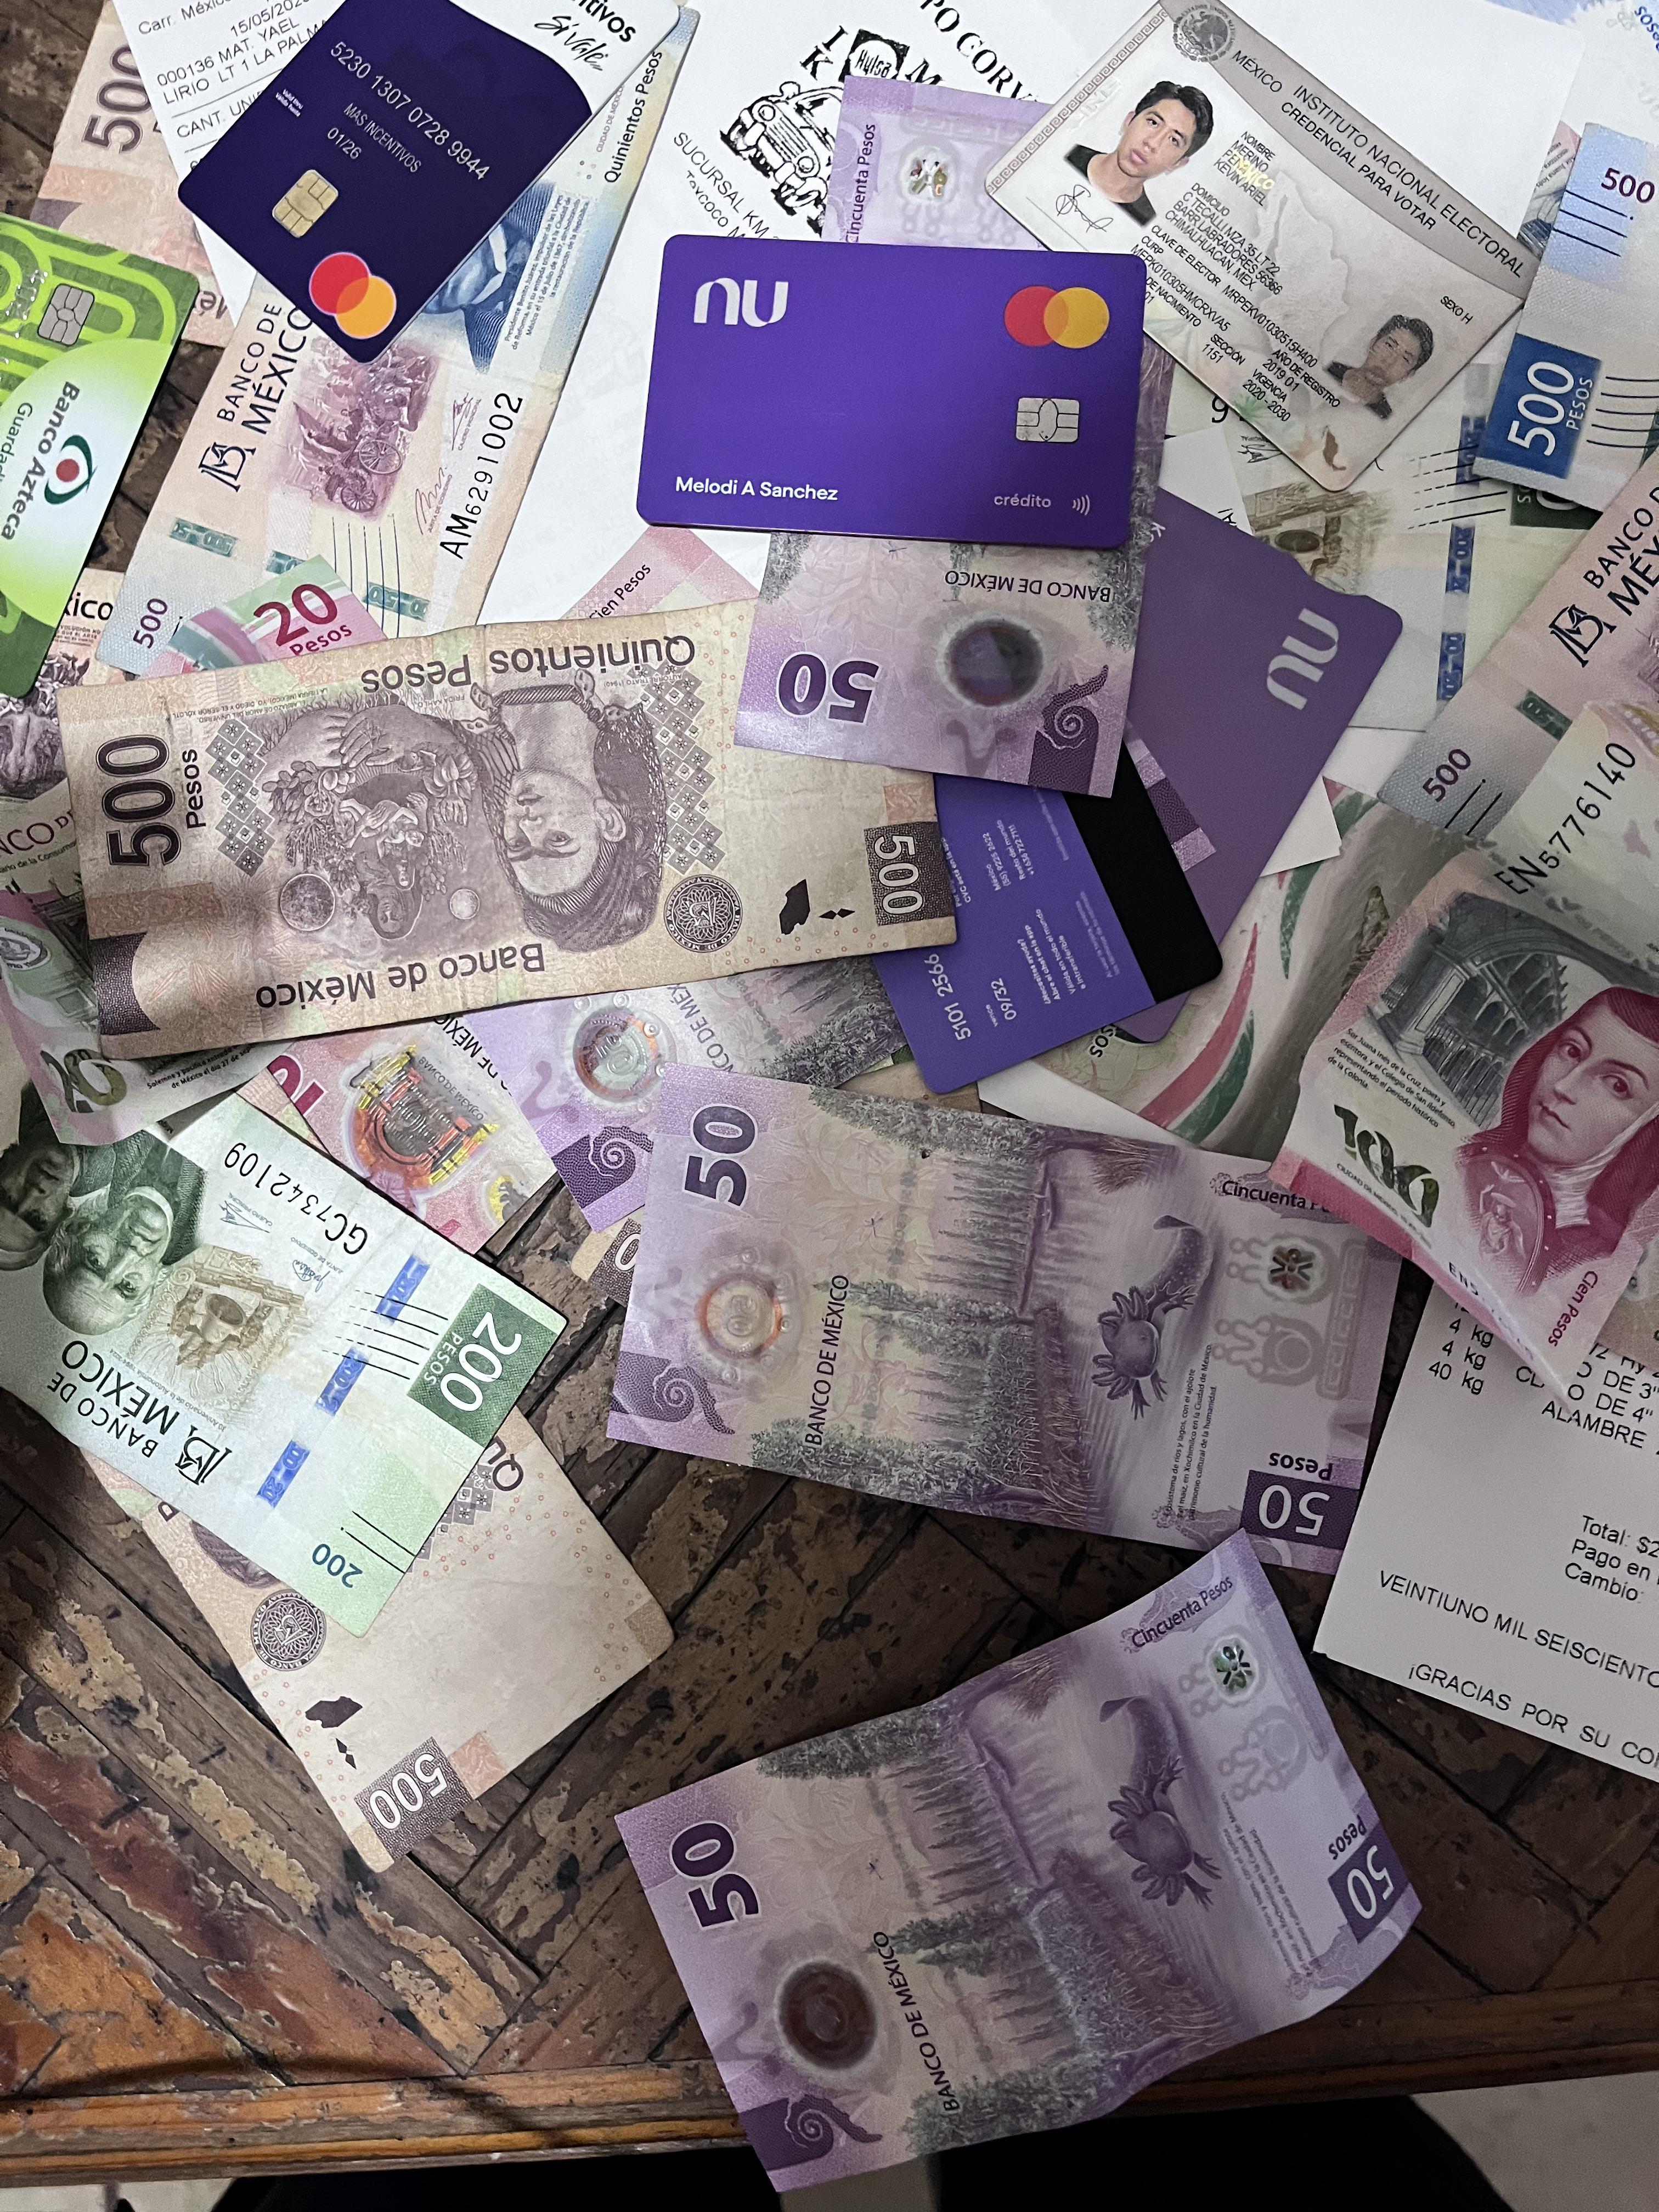100: (1260, 596, 1659, 1413), (256, 1024, 603, 1266)
20: (125, 563, 436, 686)
200: (0, 1010, 575, 1642)
50: (606, 1527, 1436, 2191), (603, 1049, 1412, 1594), (730, 51, 1202, 810), (441, 934, 957, 1204)
500: (59, 585, 981, 1071), (24, 1367, 676, 1892), (26, 0, 246, 347)
500 nuevo: (101, 3, 708, 683), (1462, 96, 1659, 516)
